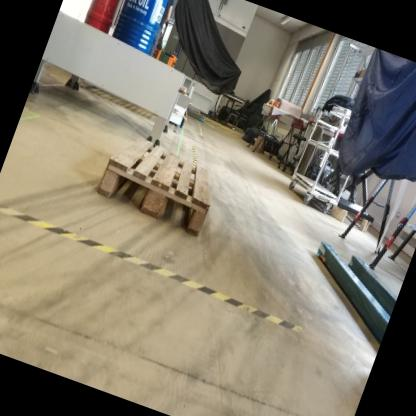BoxFace: (92, 134, 213, 241)
